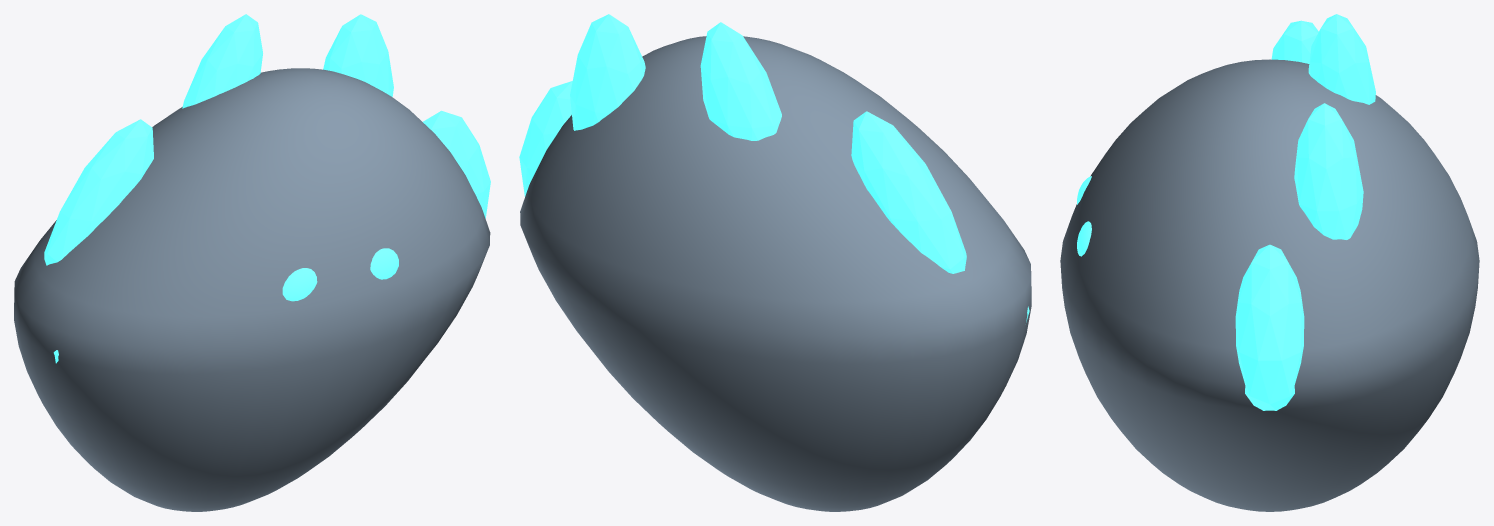
File: elemental_v7.glb
3 views of the same model, side by side, from view 1: azimuth 30°, elevation 25°; view 2: azimuth 150°, elevation 25°; view 3: azimuth 270°, elevation 25° (orthographic). The views are drawn at different scales.
Visible parts, largest first — view 1: CORE_BODY_PRIMARY, ENERGY_SHARD_EMISSIVE.003, ENERGY_SHARD_EMISSIVE.002, ENERGY_SHARD_EMISSIVE.001, ENERGY_SHARD_EMISSIVE, EYE_EMISSIVE, EYE_EMISSIVE.001; view 2: CORE_BODY_PRIMARY, ENERGY_SHARD_EMISSIVE.003, ENERGY_SHARD_EMISSIVE.002, ENERGY_SHARD_EMISSIVE.001, ENERGY_SHARD_EMISSIVE; view 3: CORE_BODY_PRIMARY, ENERGY_SHARD_EMISSIVE, ENERGY_SHARD_EMISSIVE.001, ENERGY_SHARD_EMISSIVE.002, ENERGY_SHARD_EMISSIVE.003.
Part boxes in pixels (x1,y1,x2,y2): CORE_BODY_PRIMARY: (14, 68, 490, 511); ENERGY_SHARD_EMISSIVE.003: (44, 119, 153, 265); ENERGY_SHARD_EMISSIVE.002: (182, 14, 262, 108); ENERGY_SHARD_EMISSIVE.001: (323, 14, 393, 96); ENERGY_SHARD_EMISSIVE: (423, 110, 490, 218); EYE_EMISSIVE: (282, 268, 317, 301); EYE_EMISSIVE.001: (370, 248, 398, 279); CORE_BODY_PRIMARY: (520, 36, 1031, 511); ENERGY_SHARD_EMISSIVE.003: (851, 111, 966, 273); ENERGY_SHARD_EMISSIVE.002: (700, 22, 781, 140); ENERGY_SHARD_EMISSIVE.001: (570, 14, 645, 130); ENERGY_SHARD_EMISSIVE: (519, 81, 572, 196); CORE_BODY_PRIMARY: (1060, 59, 1479, 511); ENERGY_SHARD_EMISSIVE: (1235, 244, 1304, 410); ENERGY_SHARD_EMISSIVE.001: (1294, 103, 1363, 239); ENERGY_SHARD_EMISSIVE.002: (1308, 14, 1375, 104); ENERGY_SHARD_EMISSIVE.003: (1271, 20, 1318, 63).
Bounding box in the file's own units: 2.1 × 1.98 × 1.44.
